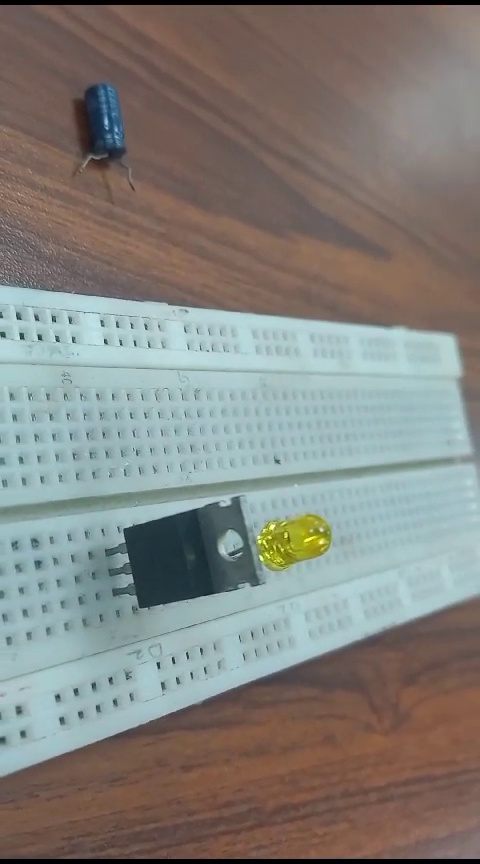LED: (260, 511, 332, 569)
voltage regulator: (96, 501, 267, 619)
